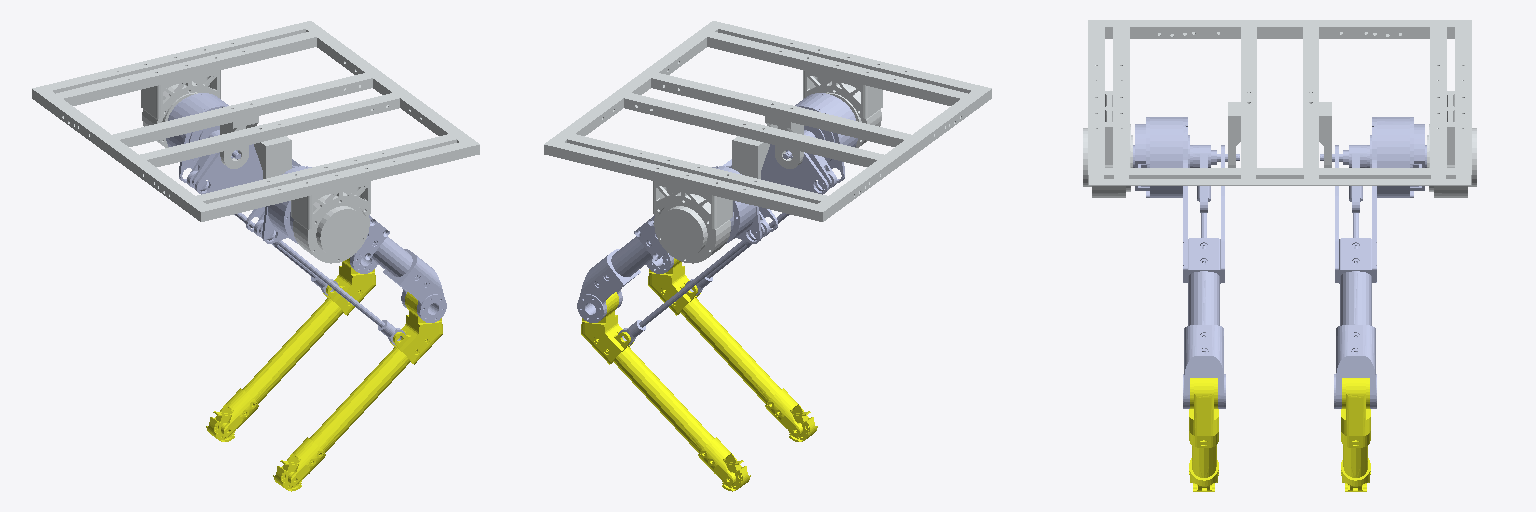
URDF robot description (hyleg_description):
<?xml version="1.0" encoding="utf-8"?>
<!-- This URDF was automatically created by SolidWorks to URDF Exporter! Originally created by [author] ([email redacted]) 
     Commit Version: 1.6.0-1-g15f4949  Build Version: 1.6.7594.29634
     For more information, please see http://wiki.ros.org/sw_urdf_exporter -->
<robot
  name="hyleg_description">
  <link
    name="base_link">
    <inertial>
      <origin
        xyz="-0.00189360692020032 2.3503970908445E-08 0.476981630876272"
        rpy="0 0 0" />
      <mass
        value="1.78172861574279" />
      <inertia
        ixx="0.0157193595042145"
        ixy="4.03458809473837E-10"
        ixz="7.77942373683245E-07"
        iyy="0.0134755990716162"
        iyz="1.38092999151782E-10"
        izz="0.0280832939636086" />
    </inertial>
    <visual>
      <origin
        xyz="0 0 0"
        rpy="0 0 0" />
      <geometry>
        <mesh
          filename="package://hyleg_description/meshes/base_link.STL" />
      </geometry>
      <material
        name="">
        <color
          rgba="0.898039215686275 0.917647058823529 0.929411764705882 1" />
      </material>
    </visual>
    <collision>
      <origin
        xyz="0 0 0"
        rpy="0 0 0" />
      <geometry>
        <mesh
          filename="package://hyleg_description/meshes/base_link.STL" />
      </geometry>
    </collision>
  </link>
  <link
    name="Left_Link1">
    <inertial>
      <origin
        xyz="0.0789283207883215 0.00528249137468846 -0.0640403328645276"
        rpy="0 0 0" />
      <mass
        value="0.922870675880155" />
      <inertia
        ixx="0.000603937980956197"
        ixy="-0.000174003241138871"
        ixz="3.48802270746673E-07"
        iyy="0.00123111274771293"
        iyz="1.10518103186495E-07"
        izz="0.00154943201224718" />
    </inertial>
    <visual>
      <origin
        xyz="0 0 0"
        rpy="0 0 0" />
      <geometry>
        <mesh
          filename="package://hyleg_description/meshes/Left_Link1.STL" />
      </geometry>
      <material
        name="">
        <color
          rgba="0.792156862745098 0.819607843137255 0.933333333333333 1" />
      </material>
    </visual>
    <collision>
      <origin
        xyz="0 0 0"
        rpy="0 0 0" />
      <geometry>
        <mesh
          filename="package://hyleg_description/meshes/Left_Link1.STL" />
      </geometry>
    </collision>
  </link>
  <joint
    name="joint1"
    type="continuous">
    <origin
      xyz="3.9058E-05 -0.1776 0.44229"
      rpy="1.5708 0.7854 0" />
    <parent
      link="base_link" />
    <child
      link="Left_Link1" />
    <axis
      xyz="0 0 -1" />
  </joint>
  <link
    name="Left_Link2">
    <inertial>
      <origin
        xyz="0.00701592304090226 -0.00816888372407007 -0.0119533382148835"
        rpy="0 0 0" />
      <mass
        value="0.0574038646002277" />
      <inertia
        ixx="1.85567649161845E-05"
        ixy="-4.31736544890542E-06"
        ixz="-3.24971748797356E-07"
        iyy="1.91028896032956E-05"
        iyz="3.7925725589571E-07"
        izz="3.05314063218276E-05" />
    </inertial>
    <visual>
      <origin
        xyz="0 0 0"
        rpy="0 0 0" />
      <geometry>
        <mesh
          filename="package://hyleg_description/meshes/Left_Link2.STL" />
      </geometry>
      <material
        name="">
        <color
          rgba="0.792156862745098 0.819607843137255 0.933333333333333 1" />
      </material>
    </visual>
    <collision>
      <origin
        xyz="0 0 0"
        rpy="0 0 0" />
      <geometry>
        <mesh
          filename="package://hyleg_description/meshes/Left_Link2.STL" />
      </geometry>
    </collision>
  </link>
  <joint
    name="joint2"
    type="continuous">
    <origin
      xyz="0 0 -0.0693"
      rpy="0 0 0" />
    <parent
      link="Left_Link1" />
    <child
      link="Left_Link2" />
    <axis
      xyz="0 0 -1" />
  </joint>
  <link
    name="Left_Link4">
    <inertial>
      <origin
        xyz="0.150000000000002 8.88178419700125E-16 -2.77555756156289E-16"
        rpy="0 0 0" />
      <mass
        value="0.0249904323097953" />
      <inertia
        ixx="6.19005920434776E-07"
        ixy="-8.46106504968241E-19"
        ixz="-1.00615183181565E-19"
        iyy="7.99002270685314E-05"
        iyz="1.35342977889062E-22"
        izz="8.00741637052169E-05" />
    </inertial>
    <visual>
      <origin
        xyz="0 0 0"
        rpy="0 0 0" />
      <geometry>
        <mesh
          filename="package://hyleg_description/meshes/Left_Link4.STL" />
      </geometry>
      <material
        name="">
        <color
          rgba="0.792156862745098 0.819607843137255 0.933333333333333 1" />
      </material>
    </visual>
    <collision>
      <origin
        xyz="0 0 0"
        rpy="0 0 0" />
      <geometry>
        <mesh
          filename="package://hyleg_description/meshes/Left_Link4.STL" />
      </geometry>
    </collision>
  </link>
  <joint
    name="join12"
    type="continuous">
    <origin
      xyz="0 -0.06 -0.0168"
      rpy="-3.1416 0 0" />
    <parent
      link="Left_Link2" />
    <child
      link="Left_Link4" />
    <axis
      xyz="0 0 -1" />
  </joint>
  <link
    name="Left_Link3">
    <inertial>
      <origin
        xyz="0.120290874468717 0.0157235597190465 5.02885727504676E-08"
        rpy="0 0 0" />
      <mass
        value="0.190634570256281" />
      <inertia
        ixx="5.83166861703397E-05"
        ixy="5.21798134995358E-05"
        ixz="8.45318102107389E-11"
        iyy="0.000589701719543423"
        iyz="-5.33543298155066E-11"
        izz="0.000609708381099523" />
    </inertial>
    <visual>
      <origin
        xyz="0 0 0"
        rpy="0 0 0" />
      <geometry>
        <mesh
          filename="package://hyleg_description/meshes/Left_Link3.STL" />
      </geometry>
      <material
        name="">
        <color
          rgba="0.984313725490196 1 0.196078431372549 1" />
      </material>
    </visual>
    <collision>
      <origin
        xyz="0 0 0"
        rpy="0 0 0" />
      <geometry>
        <mesh
          filename="package://hyleg_description/meshes/Left_Link3.STL" />
      </geometry>
    </collision>
  </link>
  <joint
    name="joint11"
    type="continuous">
    <origin
      xyz="0.3 0 -0.0861"
      rpy="0 0 -1.5708" />
    <parent
      link="Left_Link1" />
    <child
      link="Left_Link3" />
    <axis
      xyz="0 0 -1" />
  </joint>
  <link
    name="Right_Link1">
    <inertial>
      <origin
        xyz="0.0789282330953898 -0.00528248948328988 -0.0640403429291297"
        rpy="0 0 0" />
      <mass
        value="0.922870134883727" />
      <inertia
        ixx="0.000603937918526634"
        ixy="0.000174003237129537"
        ixz="3.48956308184328E-07"
        iyy="0.00123111260676014"
        iyz="-1.10606481968919E-07"
        izz="0.00154943169325789" />
    </inertial>
    <visual>
      <origin
        xyz="0 0 0"
        rpy="0 0 0" />
      <geometry>
        <mesh
          filename="package://hyleg_description/meshes/Right_Link1.STL" />
      </geometry>
      <material
        name="">
        <color
          rgba="0.792156862745098 0.819607843137255 0.933333333333333 1" />
      </material>
    </visual>
    <collision>
      <origin
        xyz="0 0 0"
        rpy="0 0 0" />
      <geometry>
        <mesh
          filename="package://hyleg_description/meshes/Right_Link1.STL" />
      </geometry>
    </collision>
  </link>
  <joint
    name="joint3"
    type="continuous">
    <origin
      xyz="3.9058E-05 0.1776 0.44229"
      rpy="-1.5708 0.7854 0" />
    <parent
      link="base_link" />
    <child
      link="Right_Link1" />
    <axis
      xyz="0 0 -1" />
  </joint>
  <link
    name="Right_Link2">
    <inertial>
      <origin
        xyz="0.00701592304090227 0.00816888372406999 -0.0119533382148835"
        rpy="0 0 0" />
      <mass
        value="0.0574038646002277" />
      <inertia
        ixx="1.85567649161845E-05"
        ixy="4.31736544890541E-06"
        ixz="-3.24971748797341E-07"
        iyy="1.91028896032956E-05"
        iyz="-3.79257255895721E-07"
        izz="3.05314063218275E-05" />
    </inertial>
    <visual>
      <origin
        xyz="0 0 0"
        rpy="0 0 0" />
      <geometry>
        <mesh
          filename="package://hyleg_description/meshes/Right_Link2.STL" />
      </geometry>
      <material
        name="">
        <color
          rgba="0.792156862745098 0.819607843137255 0.933333333333333 1" />
      </material>
    </visual>
    <collision>
      <origin
        xyz="0 0 0"
        rpy="0 0 0" />
      <geometry>
        <mesh
          filename="package://hyleg_description/meshes/Right_Link2.STL" />
      </geometry>
    </collision>
  </link>
  <joint
    name="joint4"
    type="continuous">
    <origin
      xyz="0 0 -0.0693"
      rpy="0 0 0" />
    <parent
      link="Right_Link1" />
    <child
      link="Right_Link2" />
    <axis
      xyz="0 0 -1" />
  </joint>
  <link
    name="Right_Link4">
    <inertial>
      <origin
        xyz="0.150000000000003 -7.49400541621981E-16 -1.94289029309402E-16"
        rpy="0 0 0" />
      <mass
        value="0.0249904323097953" />
      <inertia
        ixx="6.19005920434817E-07"
        ixy="8.33348071200223E-19"
        ixz="-1.0989605815878E-19"
        iyy="7.99002270685315E-05"
        iyz="5.19432685142829E-23"
        izz="8.0074163705217E-05" />
    </inertial>
    <visual>
      <origin
        xyz="0 0 0"
        rpy="0 0 0" />
      <geometry>
        <mesh
          filename="package://hyleg_description/meshes/Right_Link4.STL" />
      </geometry>
      <material
        name="">
        <color
          rgba="0.792156862745098 0.819607843137255 0.933333333333333 1" />
      </material>
    </visual>
    <collision>
      <origin
        xyz="0 0 0"
        rpy="0 0 0" />
      <geometry>
        <mesh
          filename="package://hyleg_description/meshes/Right_Link4.STL" />
      </geometry>
    </collision>
  </link>
  <joint
    name="joint22"
    type="continuous">
    <origin
      xyz="0 0.06 -0.0168"
      rpy="-3.1416 0 0" />
    <parent
      link="Right_Link2" />
    <child
      link="Right_Link4" />
    <axis
      xyz="0 0 -1" />
  </joint>
  <link
    name="Right_Link3">
    <inertial>
      <origin
        xyz="0.120290770266935 -0.0157235854138926 5.75236467348361E-08"
        rpy="0 0 0" />
      <mass
        value="0.190633901636453" />
      <inertia
        ixx="5.83168066576476E-05"
        ixy="-5.21794465081896E-05"
        ixz="-2.09498545080488E-10"
        iyy="0.000589700592501225"
        iyz="-1.63109320840759E-10"
        izz="0.000609707051116941" />
    </inertial>
    <visual>
      <origin
        xyz="0 0 0"
        rpy="0 0 0" />
      <geometry>
        <mesh
          filename="package://hyleg_description/meshes/Right_Link3.STL" />
      </geometry>
      <material
        name="">
        <color
          rgba="0.984313725490196 1 0.196078431372549 1" />
      </material>
    </visual>
    <collision>
      <origin
        xyz="0 0 0"
        rpy="0 0 0" />
      <geometry>
        <mesh
          filename="package://hyleg_description/meshes/Right_Link3.STL" />
      </geometry>
    </collision>
  </link>
  <joint
    name="joint21"
    type="continuous">
    <origin
      xyz="0.3 0 -0.0861"
      rpy="0 0 1.5708" />
    <parent
      link="Right_Link1" />
    <child
      link="Right_Link3" />
    <axis
      xyz="0 0 -1" />
  </joint>
</robot>

--- Render facts (derived) ---
The picture shows the robot from 3 angles, left to right: view 1: azimuth 30°, elevation 25°; view 2: azimuth 150°, elevation 25°; view 3: azimuth 270°, elevation 25°; orthographic projection.
Model hyleg_description with 9 links and 8 joints (8 continuous), rooted at base_link, posed all joints at 0.
Links seen in each view (by area): view 1: base_link, Left_Link3, Right_Link3, Left_Link1, Right_Link1, Left_Link4, Right_Link4; view 2: base_link, Right_Link3, Left_Link3, Right_Link1, Left_Link1, Right_Link4, Left_Link4; view 3: base_link, Left_Link1, Right_Link1, Left_Link3, Right_Link3, Left_Link2, Right_Link2.
Link boxes in pixels (bbox=[...]): base_link: bbox=[32, 21, 479, 263]; Left_Link3: bbox=[273, 292, 442, 491]; Right_Link3: bbox=[206, 258, 375, 441]; Left_Link1: bbox=[246, 166, 446, 322]; Right_Link1: bbox=[166, 93, 377, 273]; Left_Link4: bbox=[254, 220, 405, 345]; Right_Link4: bbox=[187, 171, 338, 295]; base_link: bbox=[544, 21, 991, 263]; Right_Link3: bbox=[581, 292, 750, 491]; Left_Link3: bbox=[648, 258, 817, 441]; Right_Link1: bbox=[577, 166, 777, 322]; Left_Link1: bbox=[646, 93, 857, 273]; Right_Link4: bbox=[618, 220, 769, 345]; Left_Link4: bbox=[685, 171, 836, 295]; base_link: bbox=[1083, 20, 1476, 197]; Left_Link1: bbox=[1133, 117, 1225, 408]; Right_Link1: bbox=[1334, 117, 1426, 408]; Left_Link3: bbox=[1189, 378, 1218, 491]; Right_Link3: bbox=[1341, 378, 1370, 491]; Left_Link2: bbox=[1190, 145, 1239, 212]; Right_Link2: bbox=[1320, 145, 1369, 212].
Size in the robot's own frame: 0.456 by 0.4746 by 0.5223 metres.
9 mesh visuals loaded from 9 distinct referenced files (9 binary STL).
